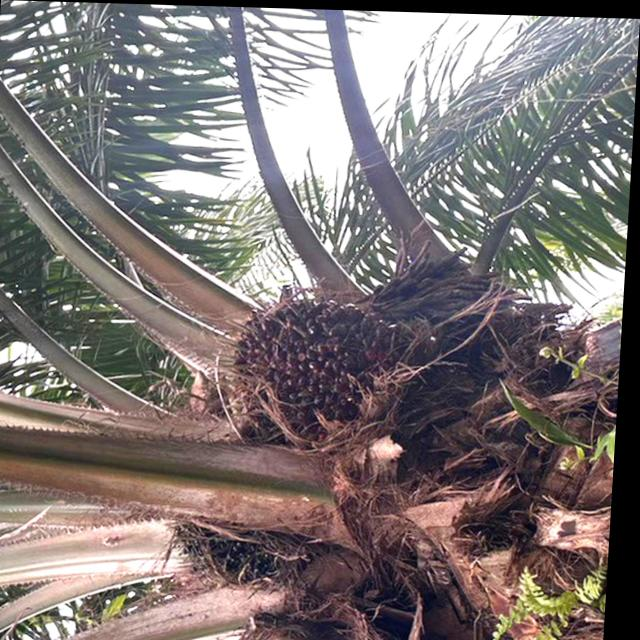ripe: (203, 274, 405, 454)
